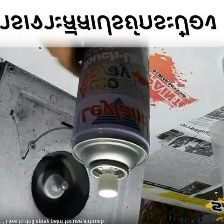aerosol_cans: (66, 4, 155, 200)
